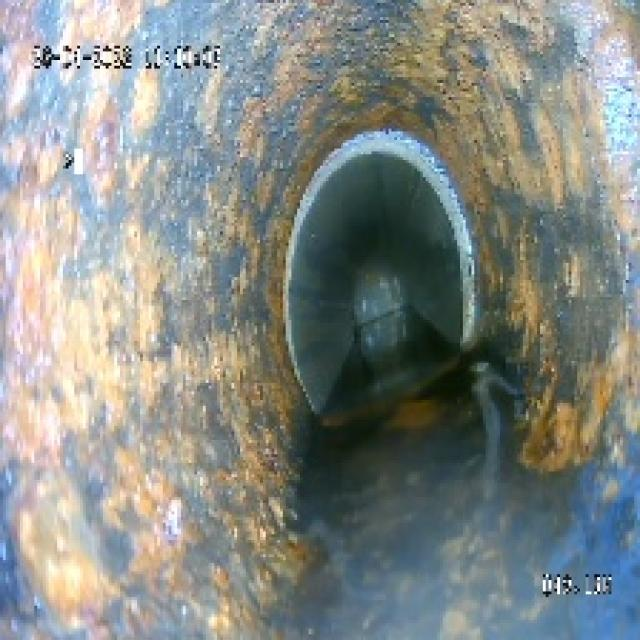encrustation: (103, 103, 608, 540)
